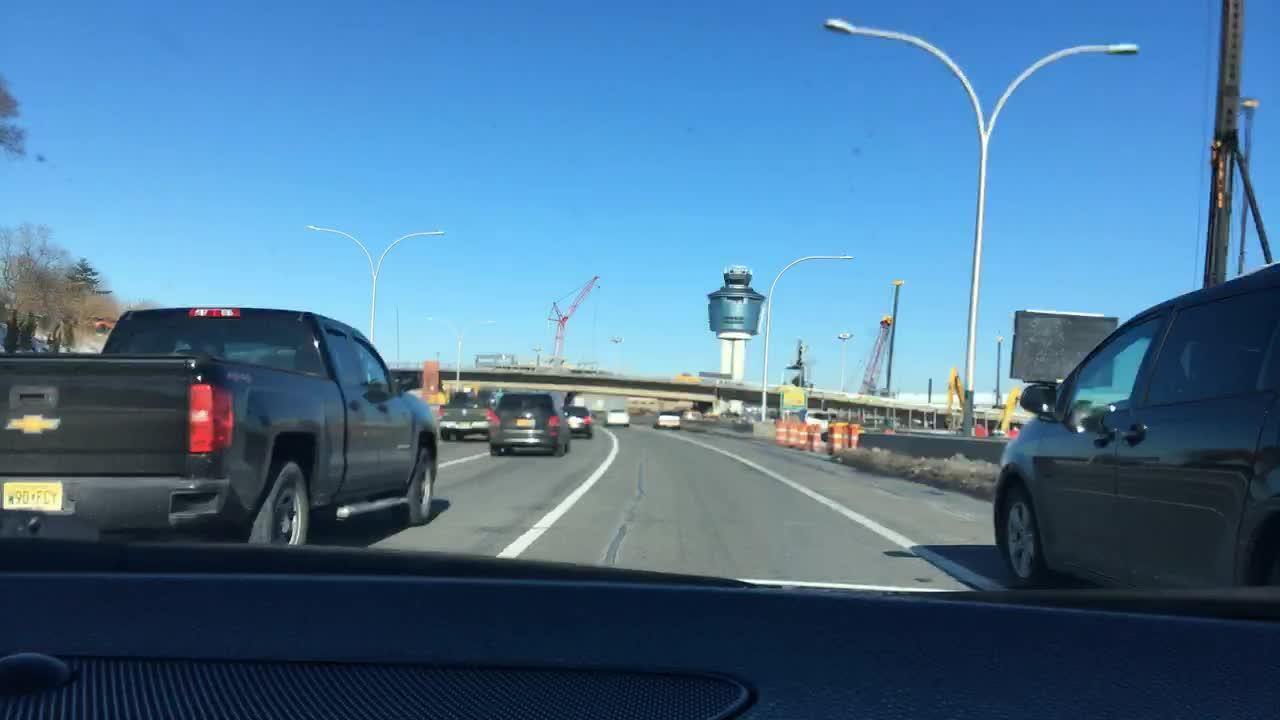chevrolet: (10, 412, 74, 438)
